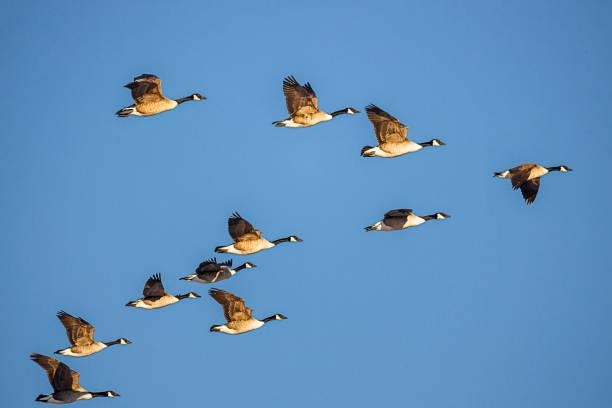Canadian-Goose: (25, 350, 123, 407), (359, 103, 447, 162), (269, 74, 358, 130), (487, 154, 574, 207), (111, 71, 207, 117), (210, 211, 303, 257), (46, 310, 133, 357), (205, 288, 288, 337), (122, 274, 201, 310), (180, 251, 256, 288), (365, 205, 450, 235)
